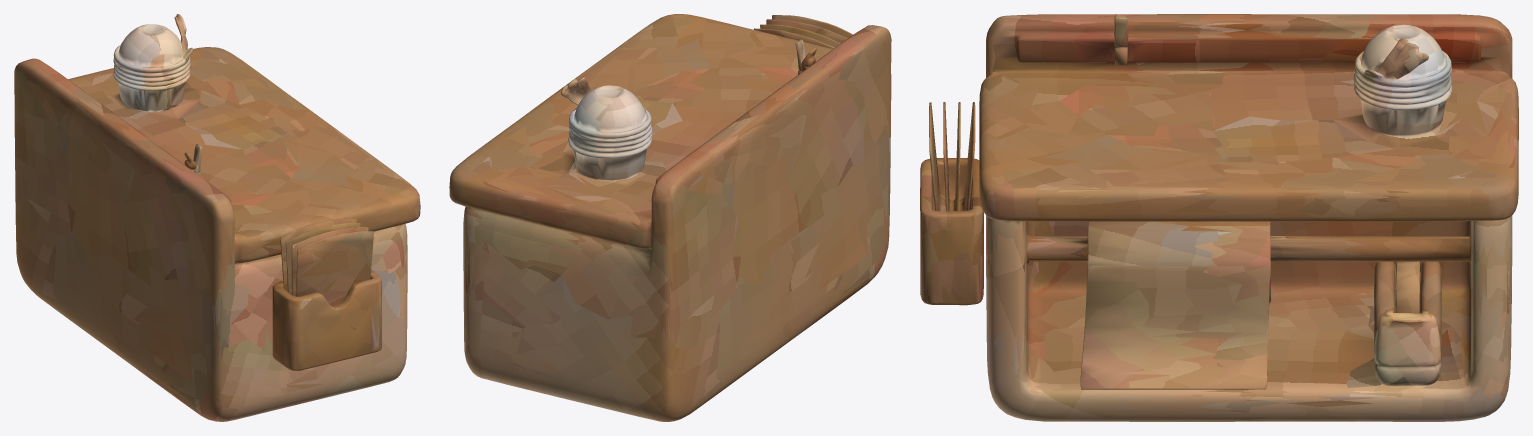
File: KR_사물_s1_prop_packing_desk.glb
3 views of the same model, side by side, from view 1: azimuth 30°, elevation 25°; view 2: azimuth 150°, elevation 25°; view 3: azimuth 270°, elevation 25° (orthographic). The views are drawn at different scales.
Visible parts, largest first — view 1: tripo_node_2972591a-ef7e-4ec7-9de6-9231e20c2d07; view 2: tripo_node_2972591a-ef7e-4ec7-9de6-9231e20c2d07; view 3: tripo_node_2972591a-ef7e-4ec7-9de6-9231e20c2d07.
Part boxes in pixels (bbox=[...]): tripo_node_2972591a-ef7e-4ec7-9de6-9231e20c2d07: bbox=[14, 14, 420, 421]; tripo_node_2972591a-ef7e-4ec7-9de6-9231e20c2d07: bbox=[449, 14, 891, 421]; tripo_node_2972591a-ef7e-4ec7-9de6-9231e20c2d07: bbox=[920, 14, 1518, 421].
Bounding box in the file's own units: 0.5192 × 0.6345 × 1.
1 material, 1 textured.
